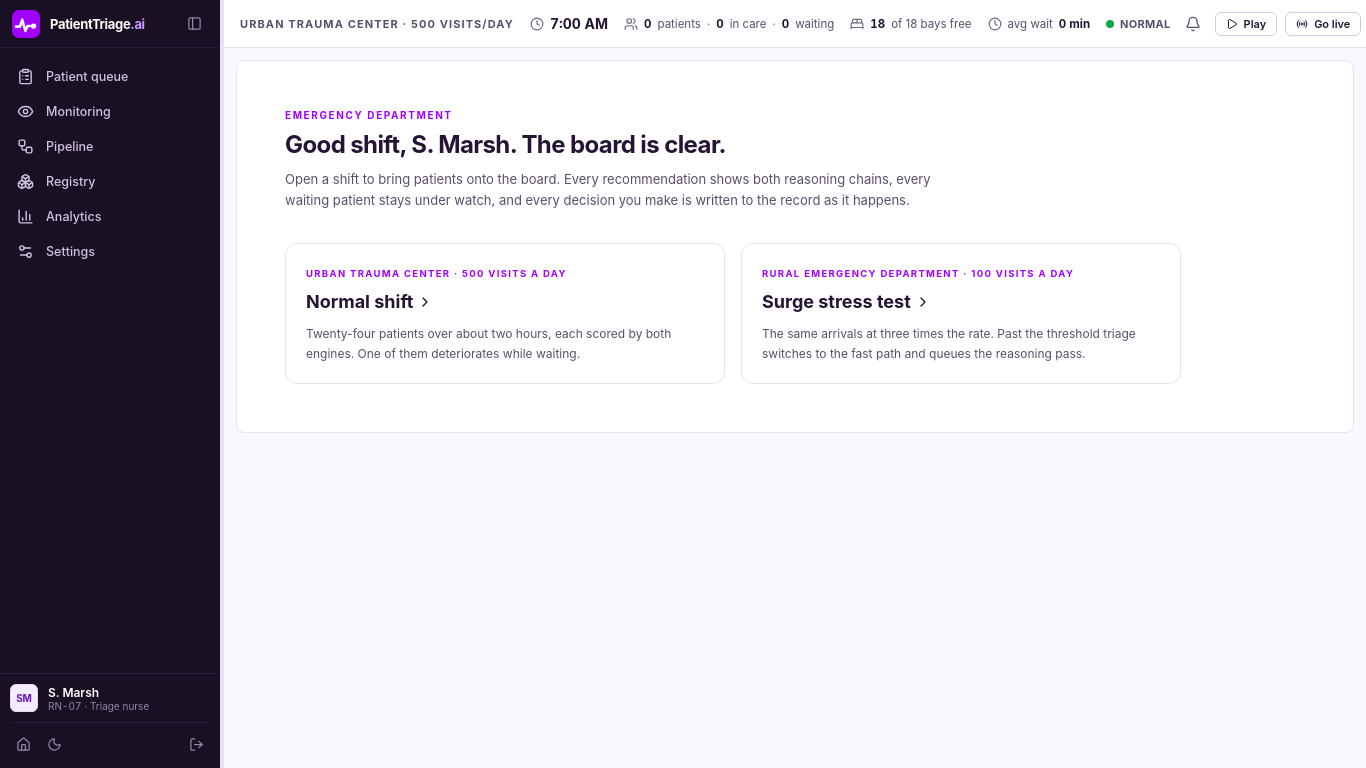
Scenario: a shift running unattended › leaves the picker usable when the shift will not open
Click the text "Normal shift" at (370, 302), box [306,291,434,312]
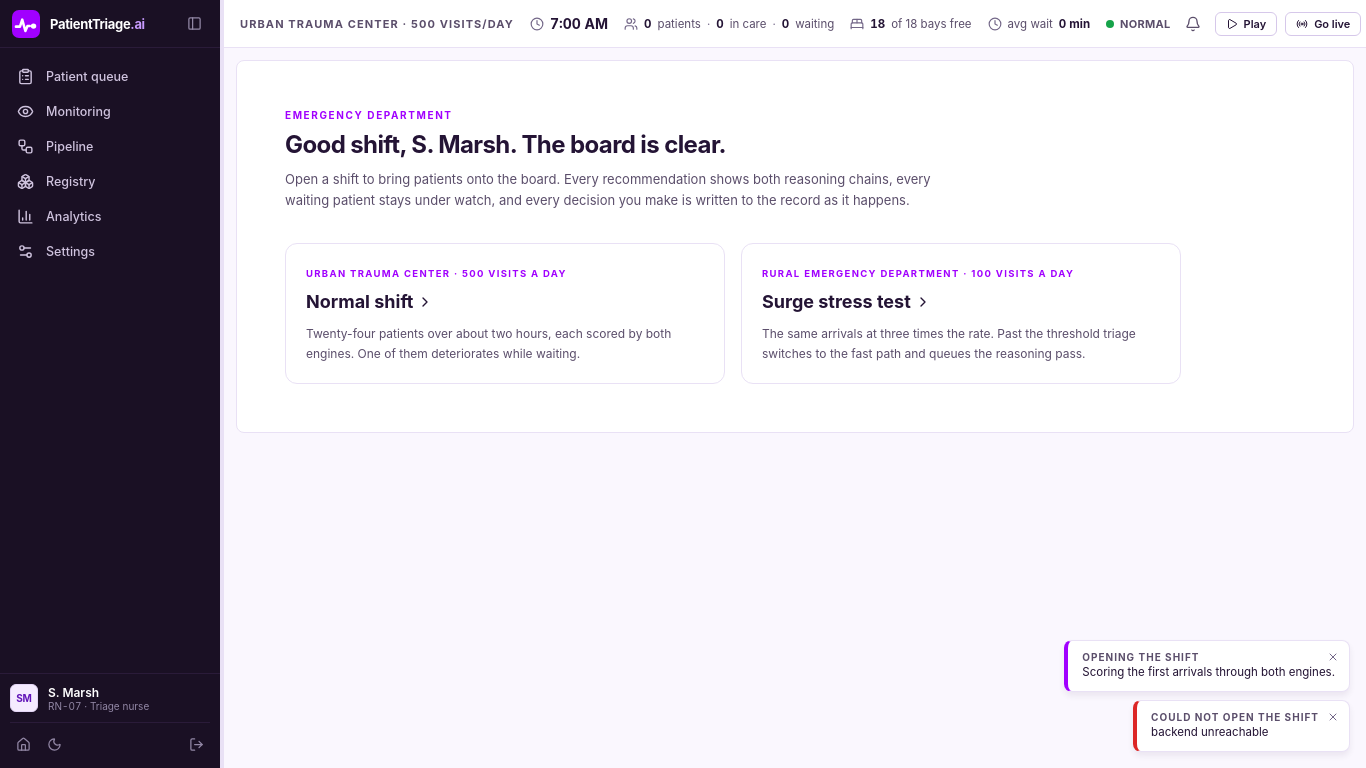
Now the text "Could not open the shift" is shown, box [1151,711,1335,723]
